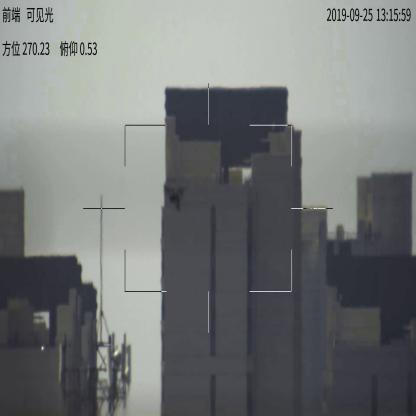uav: (165, 182, 187, 210)
